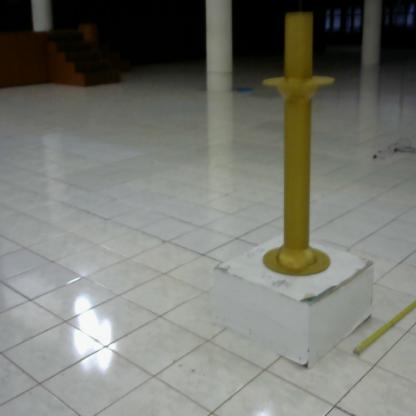pole: (261, 4, 335, 278)
